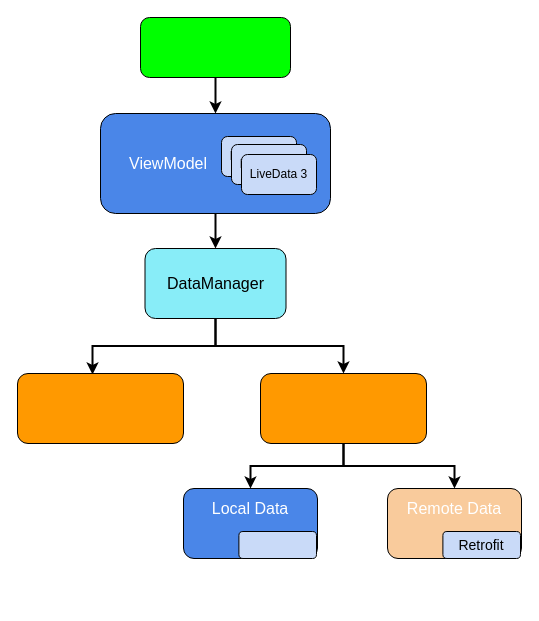
Some shapes in this 539 by 621 pixel diagram are drawn without their labels. The centre of each missing label's shape, as x and y in pixels:
"Activity / Fragment" goes at pixel 215 47.
"Repository 1...n" goes at pixel 343 408.
"Room" goes at pixel 277 544.
"SharedPreference" goes at pixel 100 408.
